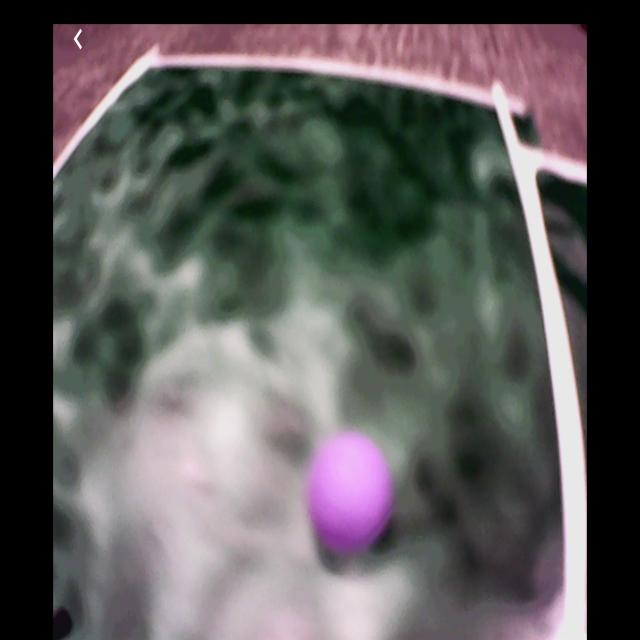ball: (309, 431, 395, 556)
